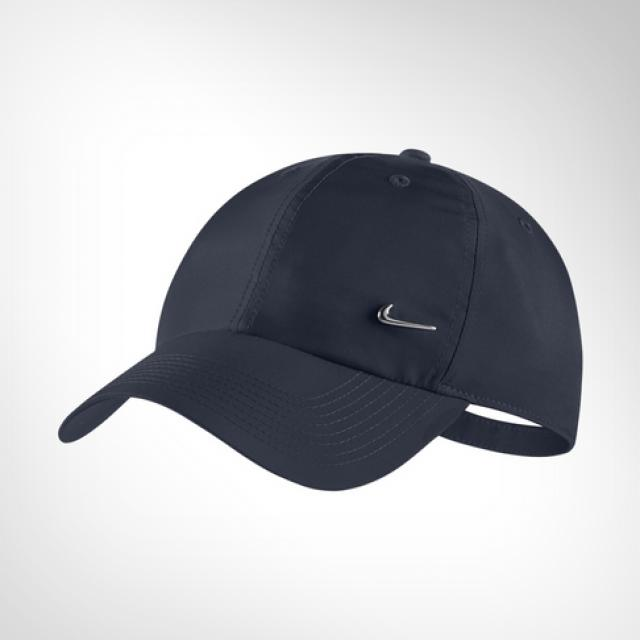mask: (59, 136, 603, 502)
